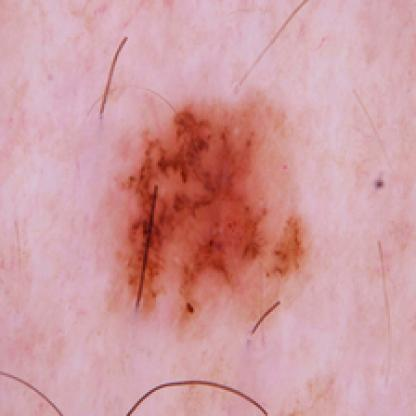Skin_Cancer-Malignant: (116, 84, 312, 327)
